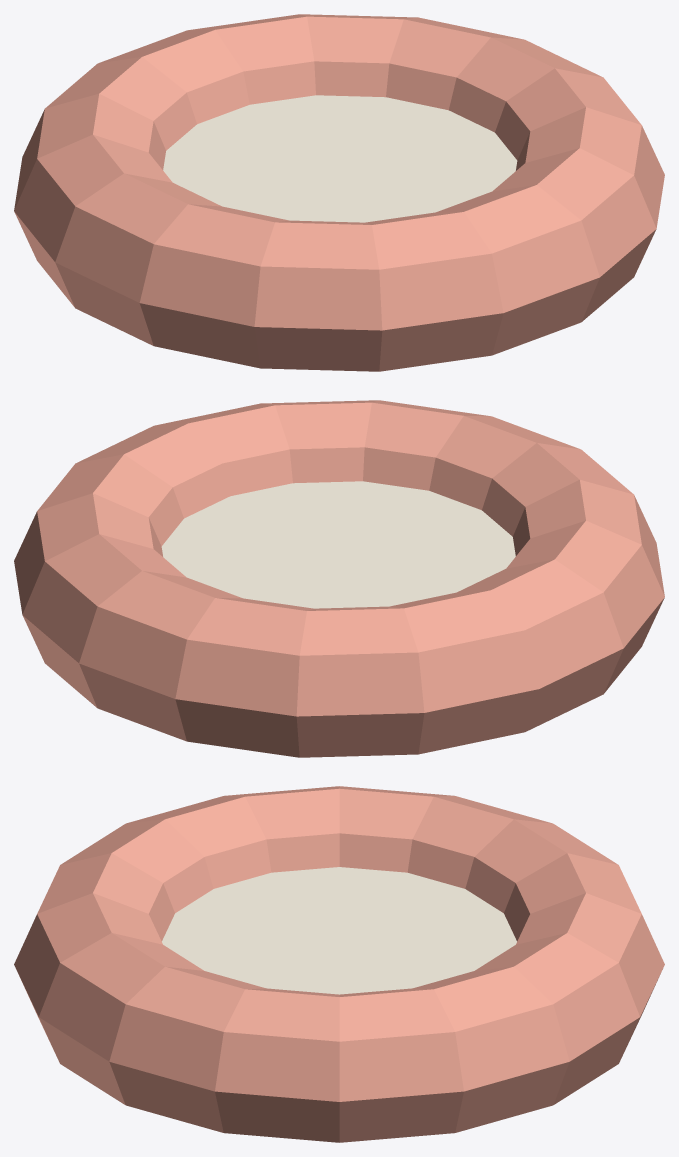
The model's file is cozy-home-interiors-cat-bed-83b78c1d.glb.
3 renders of one model, top to bottom at view 1: azimuth 30°, elevation 25°; view 2: azimuth 150°, elevation 25°; view 3: azimuth 270°, elevation 25°, orthographic.
Parts seen in each view (by area): view 1: cat-bed; view 2: cat-bed; view 3: cat-bed.
Boxes of the visible parts, left/top/right/bottom form: cat-bed: left=14, top=14, right=664, bottom=371; cat-bed: left=14, top=400, right=664, bottom=757; cat-bed: left=14, top=786, right=664, bottom=1142.
Size of the model in its own units: 0.66 by 0.16 by 0.66.
